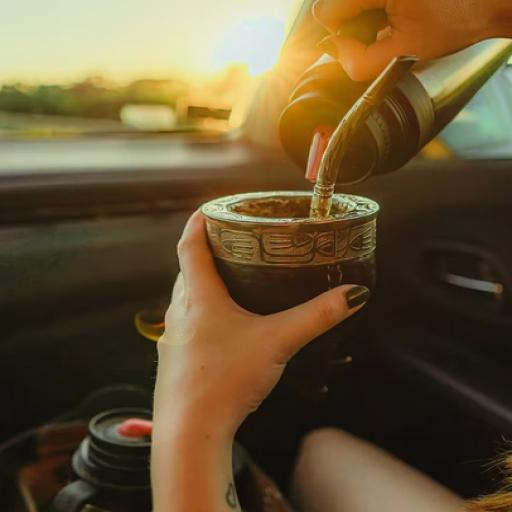mate: (195, 185, 370, 385)
termo: (282, 34, 444, 181)
